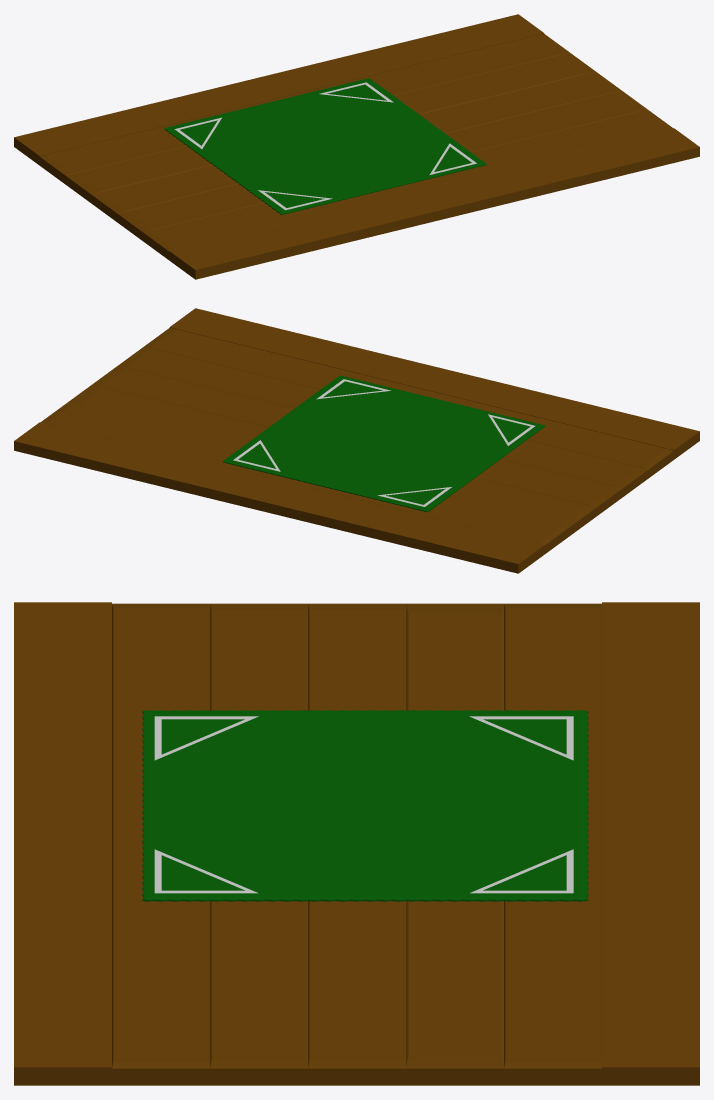
Rendered from tapete.fbx.
The picture shows the model from 3 angles, top to bottom: view 1: azimuth 30°, elevation 25°; view 2: azimuth 150°, elevation 25°; view 3: azimuth 270°, elevation 25°; orthographic projection. The views are drawn at different scales.
Visible parts, largest first — view 1: Cubo, Plano; view 2: Cubo, Plano; view 3: Cubo, Plano.
Boxes of the visible parts, bbox=[...] form: Cubo: bbox=[14, 14, 699, 279]; Plano: bbox=[164, 78, 486, 214]; Cubo: bbox=[14, 308, 699, 573]; Plano: bbox=[223, 375, 545, 512]; Cubo: bbox=[14, 602, 699, 1085]; Plano: bbox=[142, 710, 588, 901].
Bounding box in the file's own units: 492 × 10.47 × 307.
